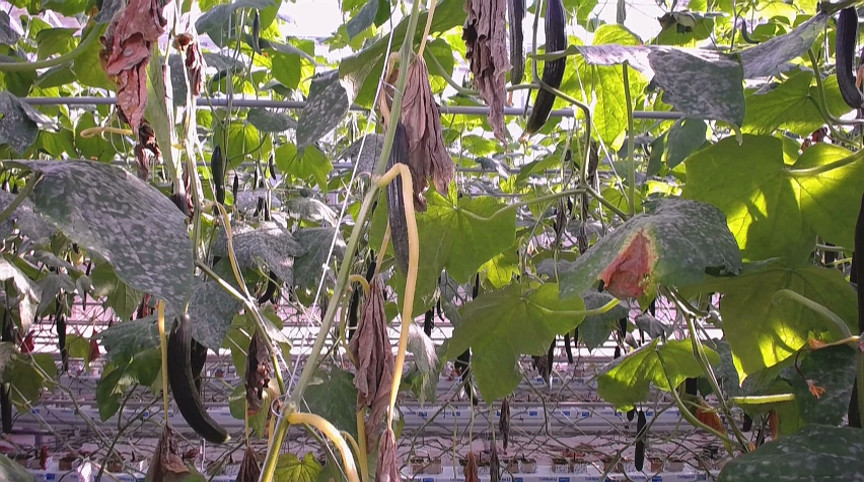cucumber: (166, 312, 228, 446), (382, 122, 418, 277), (834, 6, 862, 109), (208, 146, 227, 207)
